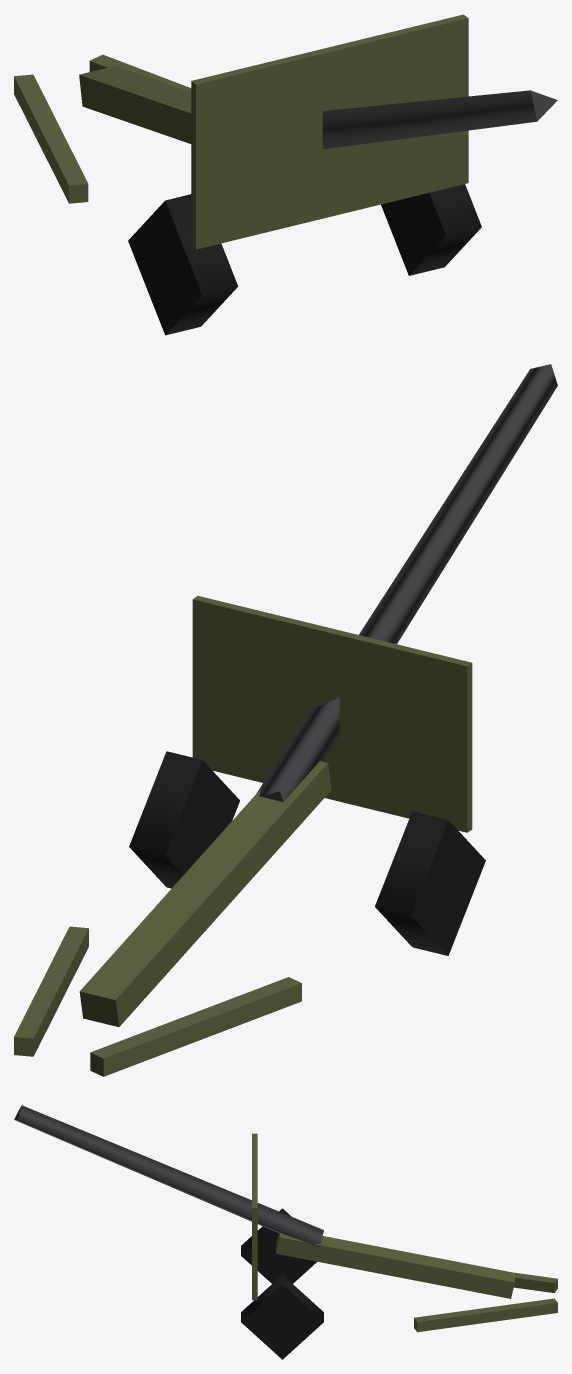
File: unit_mil_gun_a06_lod2.glb
3 views of the same model, one above another, from view 1: azimuth 30°, elevation 25°; view 2: azimuth 150°, elevation 25°; view 3: azimuth 270°, elevation 25° (orthographic). The views are drawn at different scales.
Visible parts, largest first — view 1: body, wheel_0, barrel, wheel_1; view 2: body, barrel, wheel_0, wheel_1; view 3: body, barrel, wheel_1, wheel_0.
Boxes of the visible parts, x1,y1,x2,y2 form: body: (14,14,468,249); wheel_0: (128,194,238,335); barrel: (322,90,557,149); wheel_1: (381,184,481,275); body: (14,596,472,1076); barrel: (256,364,557,801); wheel_0: (375,811,485,955); wheel_1: (129,751,239,888); body: (252,1133,557,1332); barrel: (14,1105,323,1247); wheel_1: (241,1275,323,1359); wheel_0: (241,1208,316,1283).
Size of the model in its own units: 1.95 by 2.56 by 5.88.
